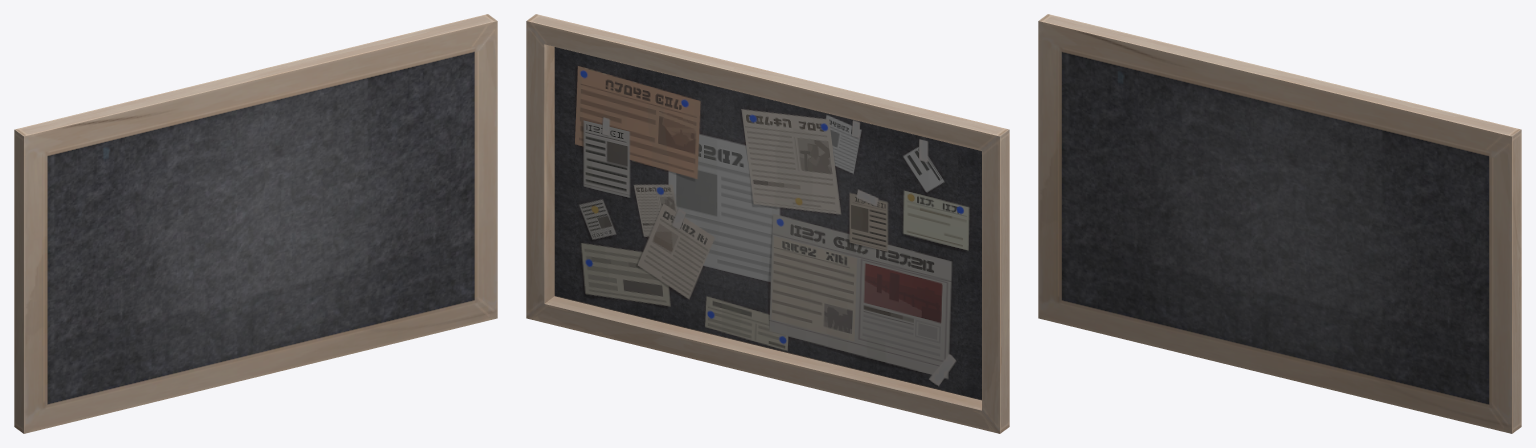
The model's file is P_Blackboard_007_S1_M03.obj.
3 renders of one model, left to right at view 1: azimuth 30°, elevation 25°; view 2: azimuth 150°, elevation 25°; view 3: azimuth 330°, elevation 25°, orthographic.
Bounding box in the file's own units: 2 × 1.2 × 0.07.
1 material, 1 textured.
